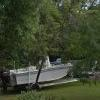Boat: (7, 54, 68, 93)
